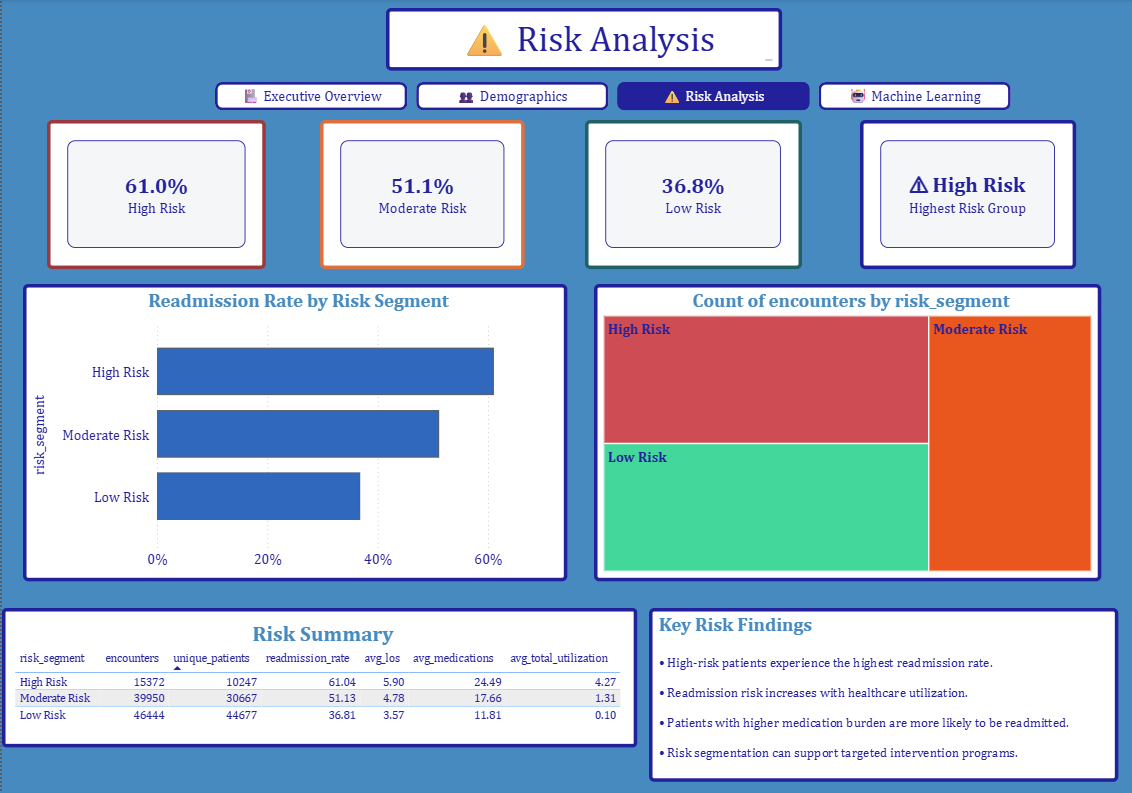

This screenshot's page, from the dashboard's own definition file:
{"tool":"powerbi","page":{"name":"⚠️ Risk Analysis","canvas":[1280,900],"ordinal":2},"visuals":[{"type":"barChart","title":"Readmission Rate by Risk Segment","fields":{"Category":["Risk_Summary.risk_segment"],"Y":["Risk_Summary.Readmission Rate Display"]},"box":[23.8,323,616.6,336.6],"z":0},{"type":"treemap","fields":{"Group":["Risk_Summary.risk_segment"],"Values":["CountNonNull(Risk_Summary.encounters)"]},"box":[671,323,574.7,336.6],"z":1000},{"type":"textbox","title":"⚠️ Risk Analysis","box":[435.6,10.4,449.4,70.7],"z":2000},{"type":"pageNavigator","box":[241.5,94,902.2,32.8],"z":3000},{"type":"tableEx","title":"Risk Summary","fields":{"Values":["Risk_Summary.risk_segment","Risk_Summary.encounters","Risk_Summary.unique_patients","Risk_Summary.readmission_rate","Risk_Summary.avg_los","Risk_Summary.avg_medications","Risk_Summary.avg_total_utilization"]},"box":[0,690.3,719.8,157.6],"z":3001},{"type":"textbox","title":"Key Risk Findings","box":[733.4,690.3,531.6,197.2],"z":3002},{"type":"cardVisual","fields":{"Data":["Risk_Summary.High Risk Readmission Rate"]},"box":[51,137.2,248.2,168.9],"z":3003},{"type":"cardVisual","fields":{"Data":["Risk_Summary.Moderate Risk Readmission Rate"]},"box":[360.5,137.2,232.4,168.9],"z":3004},{"type":"cardVisual","fields":{"Data":["Risk_Summary.Low Risk Readmission Rate"]},"box":[660.8,137.2,246,168.9],"z":3005},{"type":"cardVisual","fields":{"Data":["Risk_Summary.Highest Risk Segment"]},"box":[972.5,137.2,244.8,168.9],"z":3006}]}

Visuals, with their boxes in screenshot pixels (x1, y1, x2, y2), scaled from the page's 1280x900 canvas onto the 1132x793 screenshot:
"Readmission Rate by Risk Segment" barChart: 21, 285, 566, 581
treemap - Risk_Summary.risk_segment x CountNonNull(Risk_Summary.encounters): 593, 285, 1102, 581
"⚠️ Risk Analysis" textbox: 385, 9, 783, 71
pageNavigator: 214, 83, 1011, 112
"Risk Summary" tableEx: 0, 608, 637, 747
"Key Risk Findings" textbox: 649, 608, 1119, 782
cardVisual - Risk_Summary.High Risk Readmission Rate: 45, 121, 265, 270
cardVisual - Risk_Summary.Moderate Risk Readmission Rate: 319, 121, 524, 270
cardVisual - Risk_Summary.Low Risk Readmission Rate: 584, 121, 802, 270
cardVisual - Risk_Summary.Highest Risk Segment: 860, 121, 1077, 270
